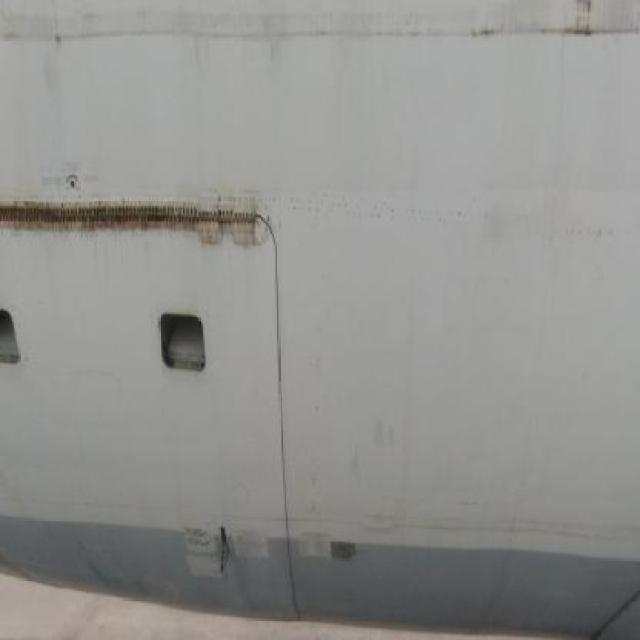Scartch: (1, 182, 299, 266)
